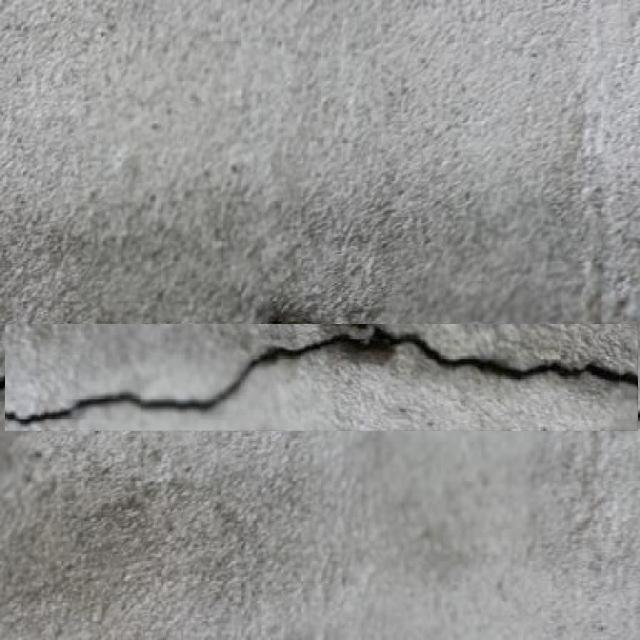horizontal crack: (5, 324, 637, 430)
